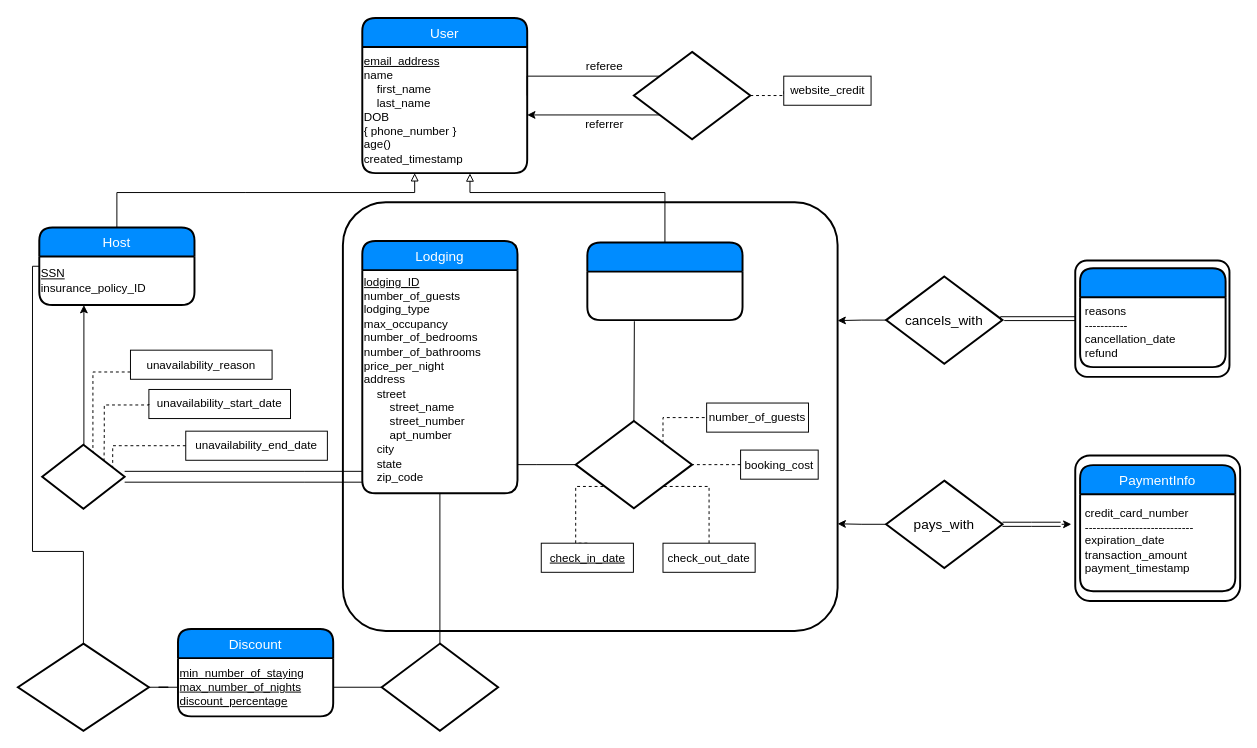
The diagram is 1257 pixels wide and 748 high, and some of its shapes have lost their labels. Each missing label, with the box of its shape:
applies: (380, 642, 499, 731)
books: (574, 420, 693, 509)
CancellationInfo: (1079, 267, 1226, 368)
discount_offers: (16, 642, 149, 731)
Guest: (586, 241, 743, 321)
offers: (41, 443, 125, 509)
refers: (632, 50, 751, 140)
